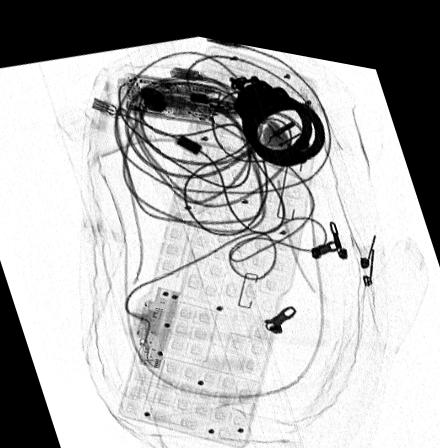HandCuffs: (228, 65, 325, 155)
